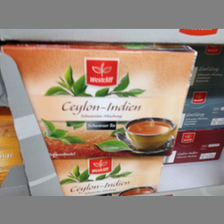tea: (3, 43, 197, 158)
